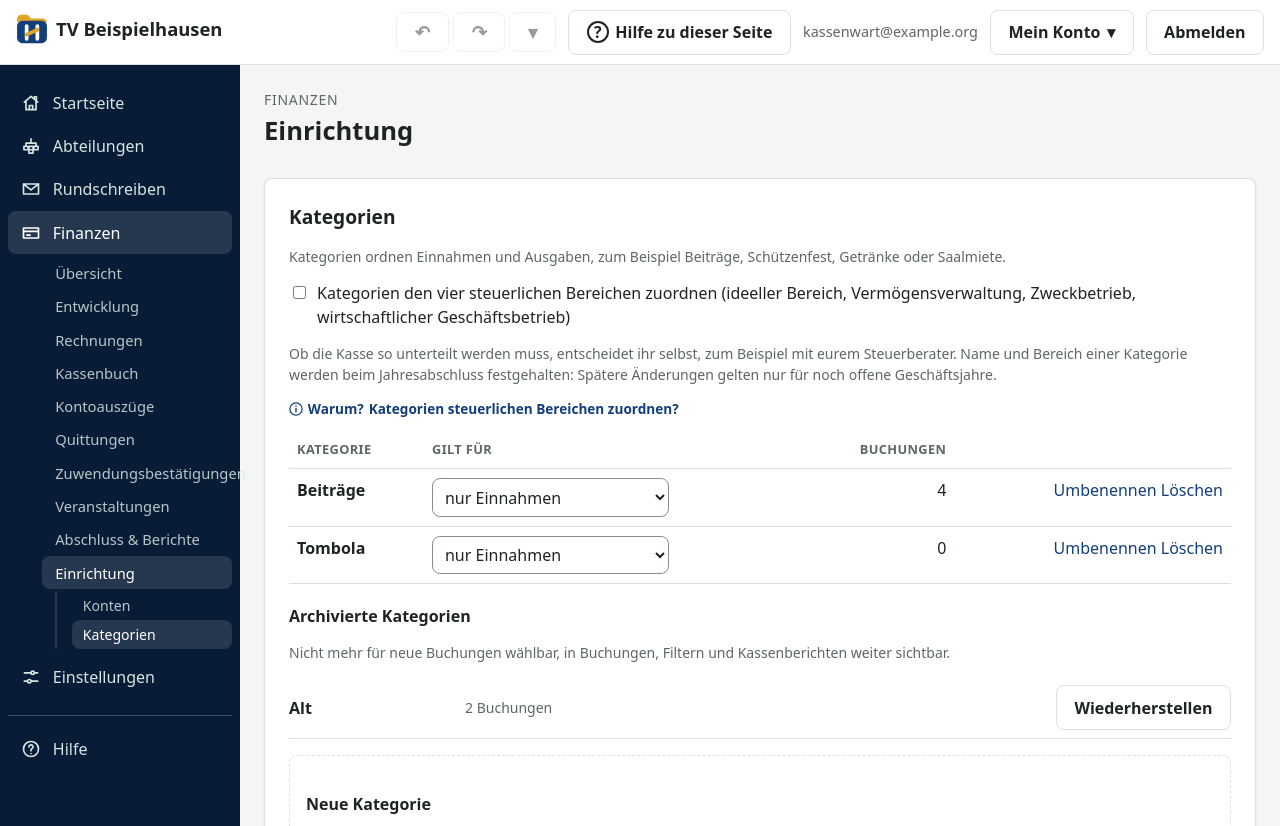
it: Kategorien löschen und umbenennen › löscht eine unbenutzte, stellt eine archivierte wieder her und benennt um
The width and height of the screenshot is (1280, 826).
Expected: the heading "Archivierte Kategorien" is shown, [289,605,471,627]
Click the button with aria-label "Tombola löschen" at (1192, 548), box [1161,536,1223,560]
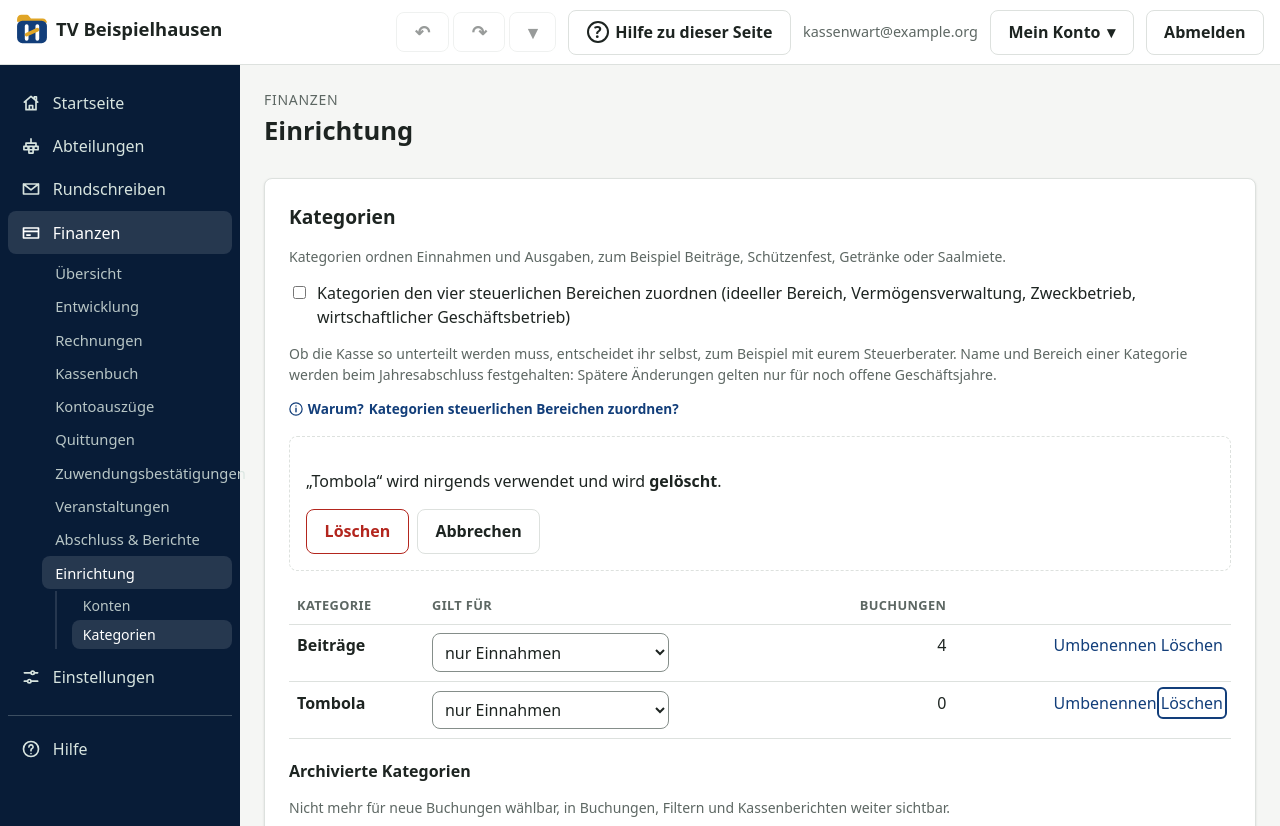
Now the text "„Tombola“ wird nirgends verwendet und wird gelöscht." is shown, box [306,470,722,492]
Click the button "Löschen" below "gelöscht" at (357, 531), box [306,508,409,554]
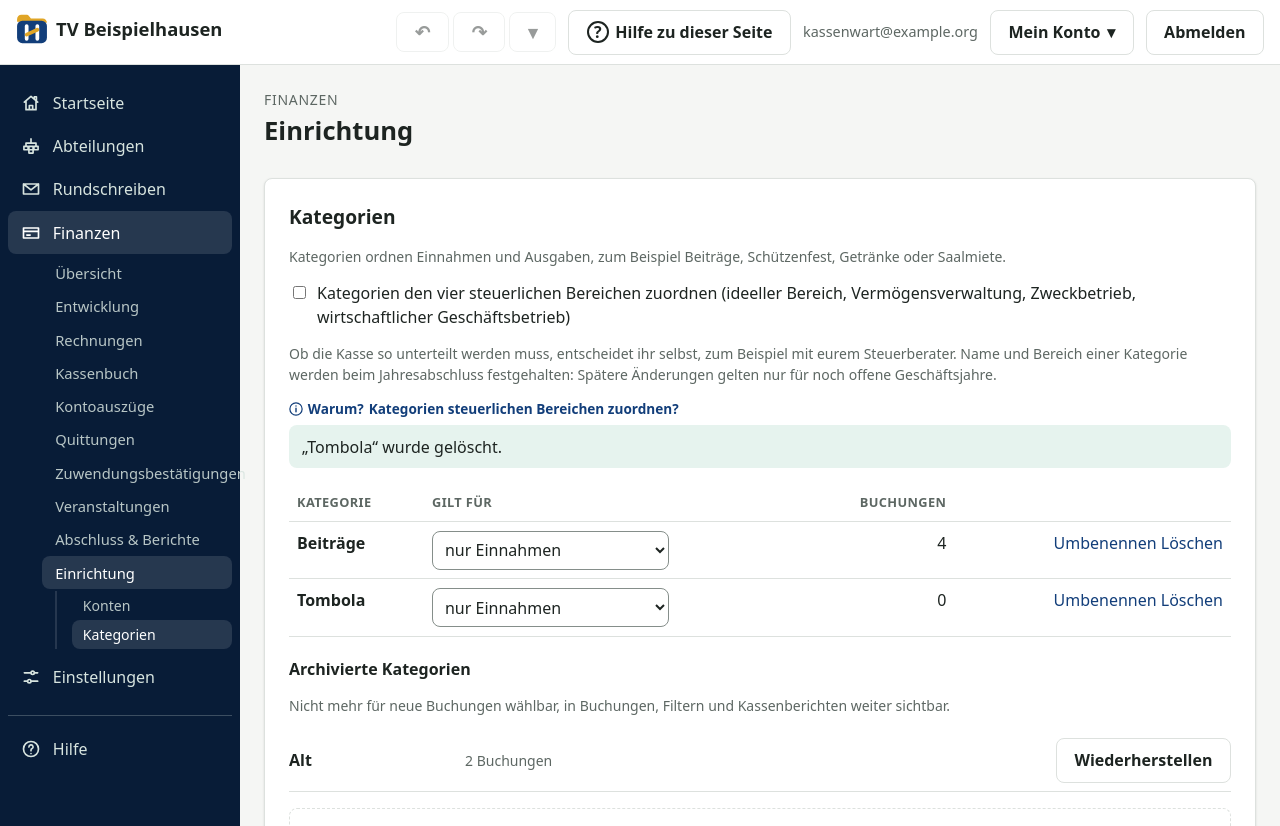
Now the text "„Tombola“ wurde gelöscht." is shown, box [289,425,1231,468]
Click the button with aria-label "Alt wiederherstellen" at (1143, 760), box [1056,738,1231,783]
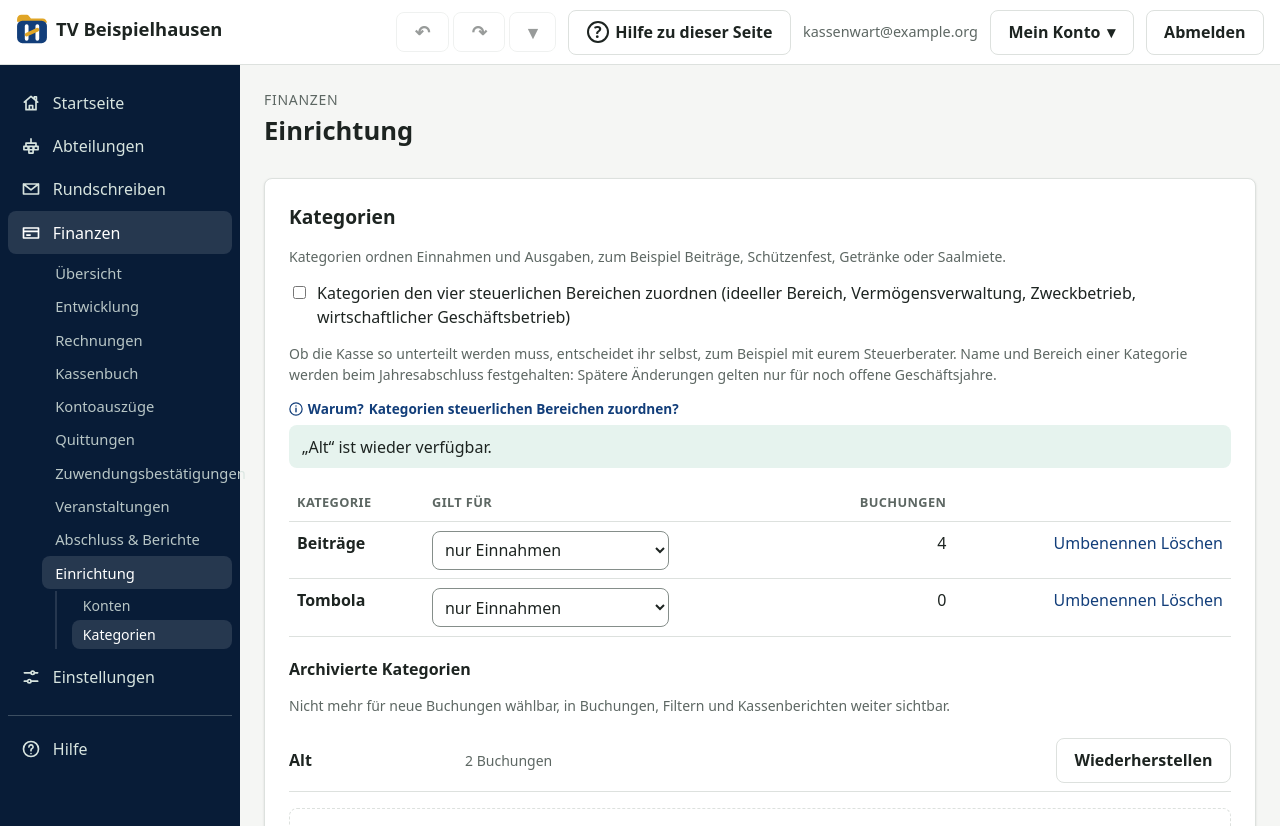
Now the text "„Alt“ ist wieder verfügbar." is shown, box [289,425,1231,468]
Click the button with aria-label "Beiträge umbenennen" at (1105, 543), box [1054,531,1157,555]
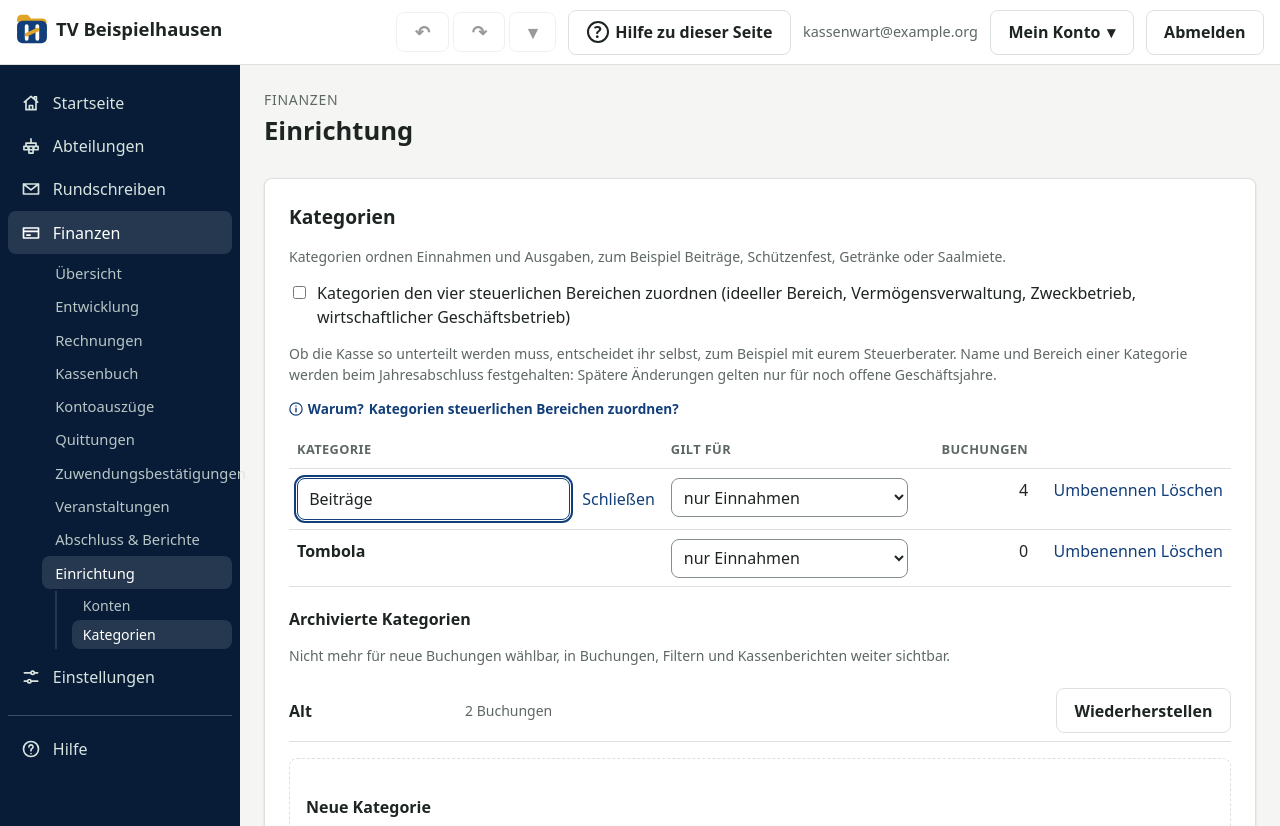
Clear the field named "Neuer Name für Beiträge" at (434, 499), box [297,478,570,520]
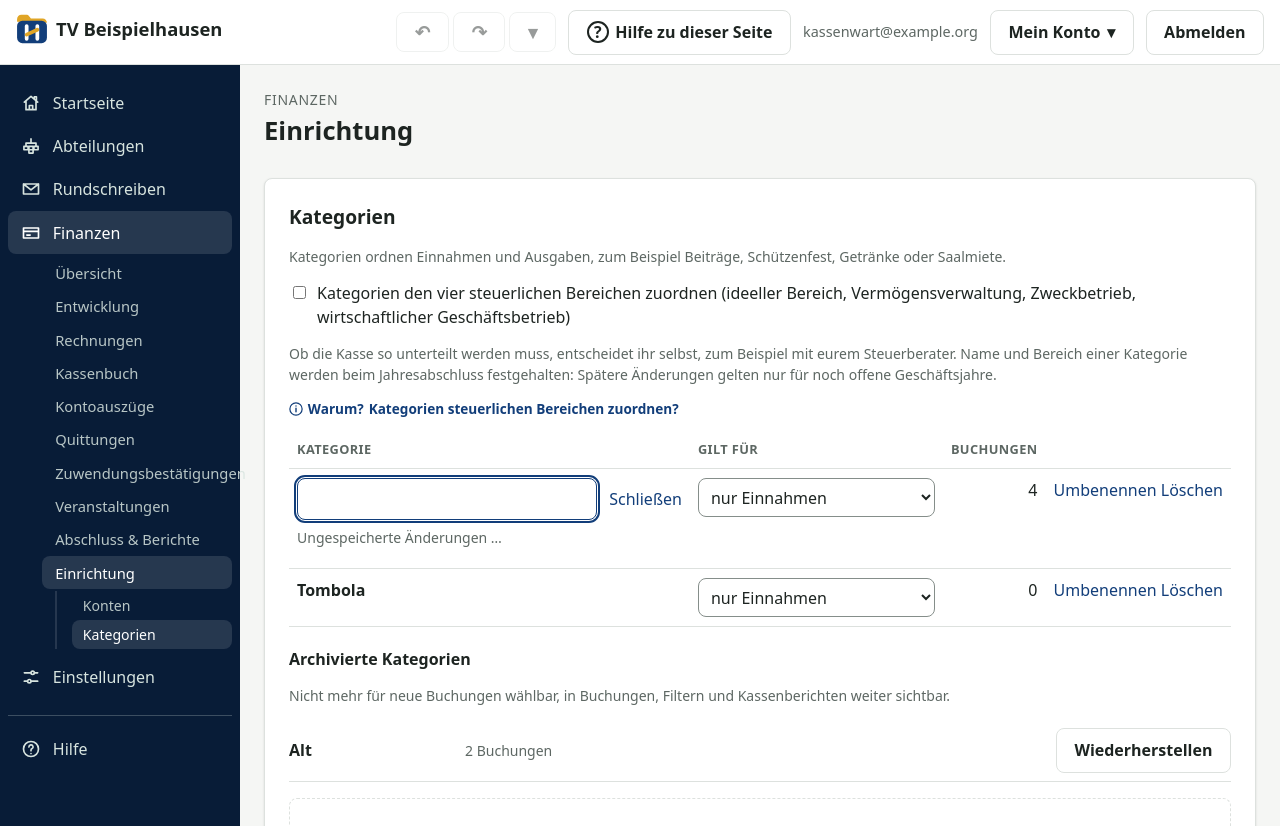
Type "Mitgliedsbeiträge" into the field named "Neuer Name für Beiträge" at (447, 499), box [297,478,597,520]
Click the button "Schließen" at (646, 499), box [609,487,682,511]
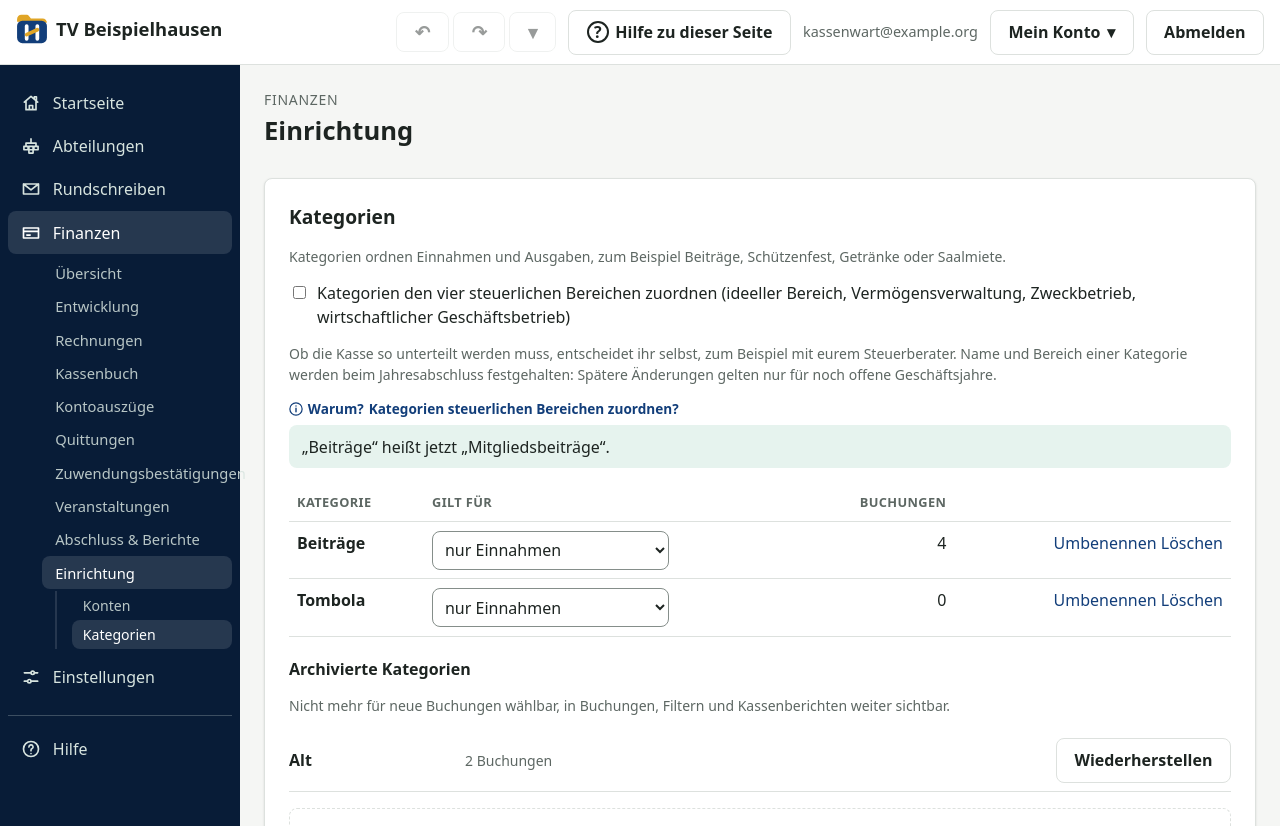
Now the text "„Beiträge“ heißt jetzt „Mitgliedsbeiträge“." is shown, box [289,425,1231,468]
